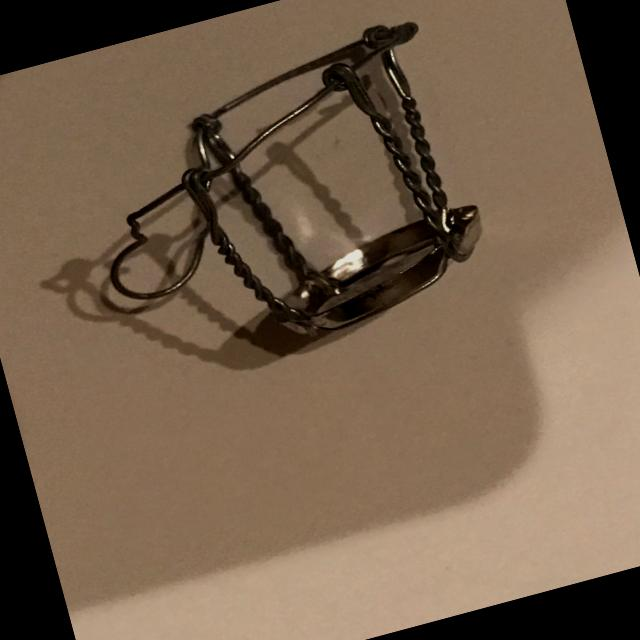Metal: (41, 0, 524, 408)
